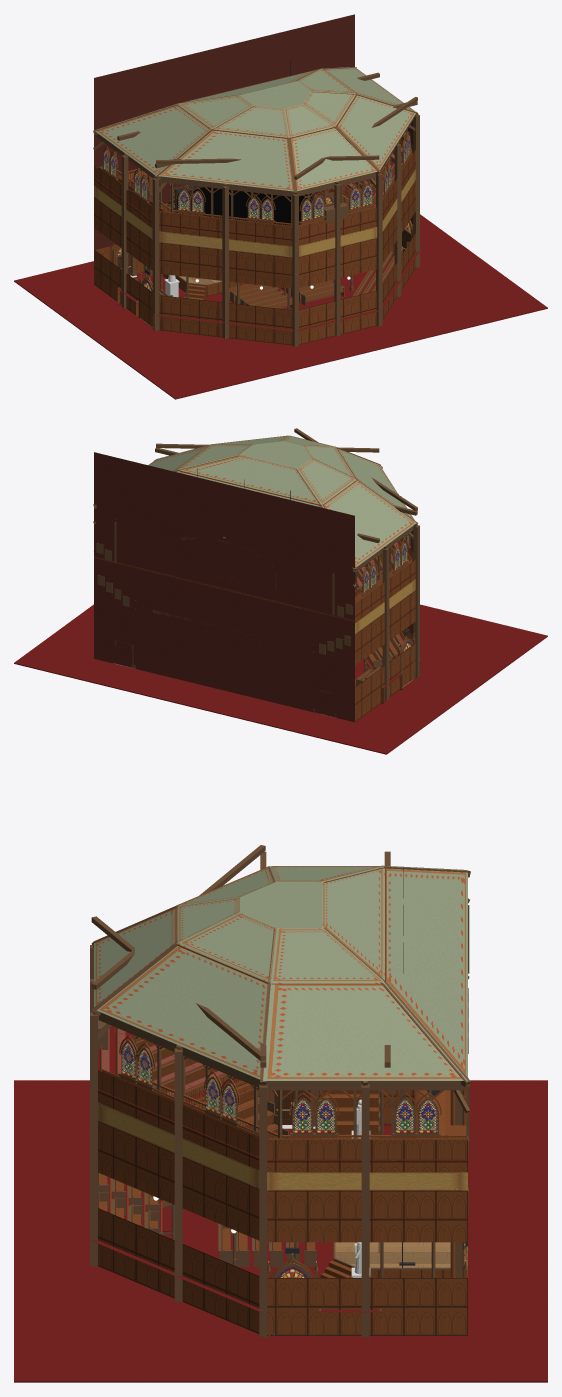
File: lecture_hall.glb
3 renders of one model, top to bottom at view 1: azimuth 30°, elevation 25°; view 2: azimuth 150°, elevation 25°; view 3: azimuth 270°, elevation 25°, orthographic. The views are drawn at different scales.
Visible parts, largest first — view 1: Hall_Walls, Seating_Orchestra, Hall_Ceiling, Hall_Windows, TVScreen, Seating_Gallery, Gallery_Arcade, Balustrades, Stage; view 2: Hall_Walls, Seating_Orchestra, Hall_Ceiling, Seating_Gallery, Seating_Balcony, Hall_Windows, Gallery_Arcade; view 3: Seating_Orchestra, Hall_Walls, Hall_Ceiling, Hall_Windows, Stage, Seating_Gallery, Balustrades, Gallery_Arcade, Seating_Balcony.
Part boxes in pixels (x1,y1,x2,y2): Hall_Walls: (94,14,419,346); Seating_Orchestra: (14,214,547,399); Hall_Ceiling: (93,67,418,194); Hall_Windows: (102,129,411,224); TVScreen: (177,187,311,225); Seating_Gallery: (94,141,415,238); Gallery_Arcade: (114,150,391,225); Balustrades: (117,157,390,309); Stage: (162,274,247,300); Hall_Walls: (94,452,419,722); Seating_Orchestra: (14,604,547,754); Hall_Ceiling: (93,428,417,587); Seating_Gallery: (94,540,415,621); Seating_Balcony: (97,556,382,654); Hall_Windows: (361,534,411,596); Gallery_Arcade: (114,518,391,615); Seating_Orchestra: (14,1080,547,1382); Hall_Walls: (90,945,467,1337); Hall_Ceiling: (91,845,470,1112); Hall_Windows: (119,1036,441,1137); Stage: (320,1242,467,1277); Seating_Gallery: (98,1026,468,1169); Balustrades: (136,1074,466,1277); Gallery_Arcade: (133,905,469,1149); Seating_Balcony: (136,988,468,1212).
Size of the model in its own units: 40 by 21.3 by 30.
Materials: 25 (14 with a texture image).
